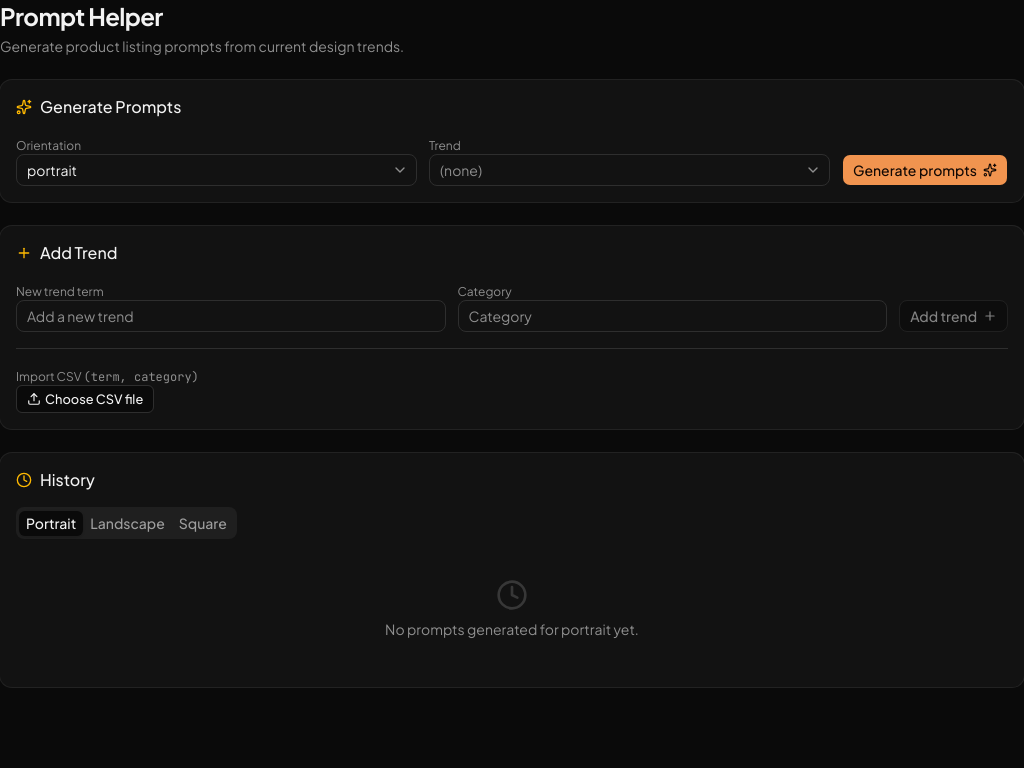
it: PromptHelper › generates prompts and displays warnings
Click the button "Generate prompts" at (925,170), box left=842, top=154, right=1008, bottom=186
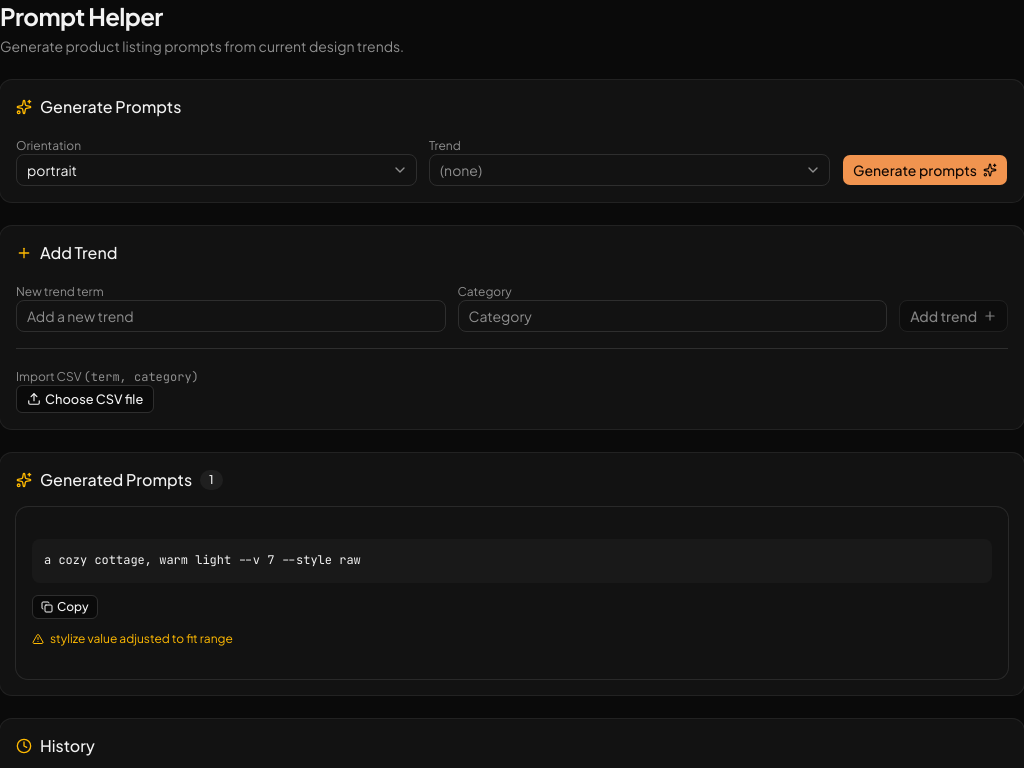
Check: the text "a cozy cottage, warm light --v 7 --style raw" is shown, box left=32, top=539, right=992, bottom=582
Check: the text "stylize value adjusted to fit range" is shown, box left=50, top=630, right=233, bottom=646
